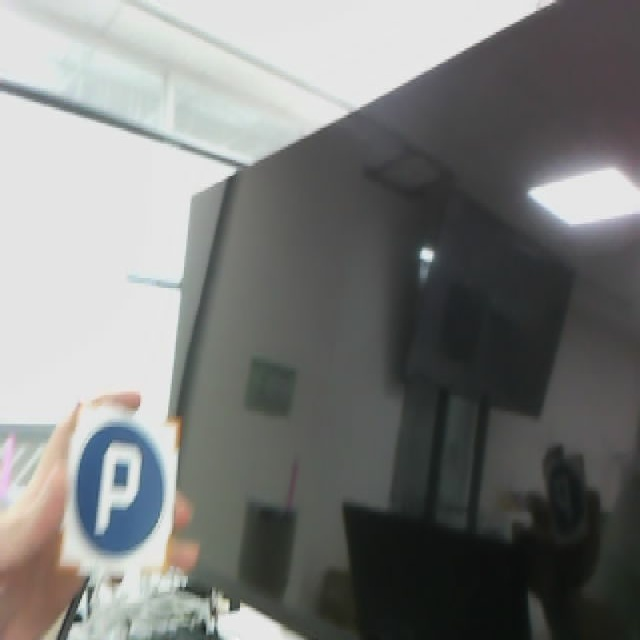parking: (58, 398, 180, 583)
